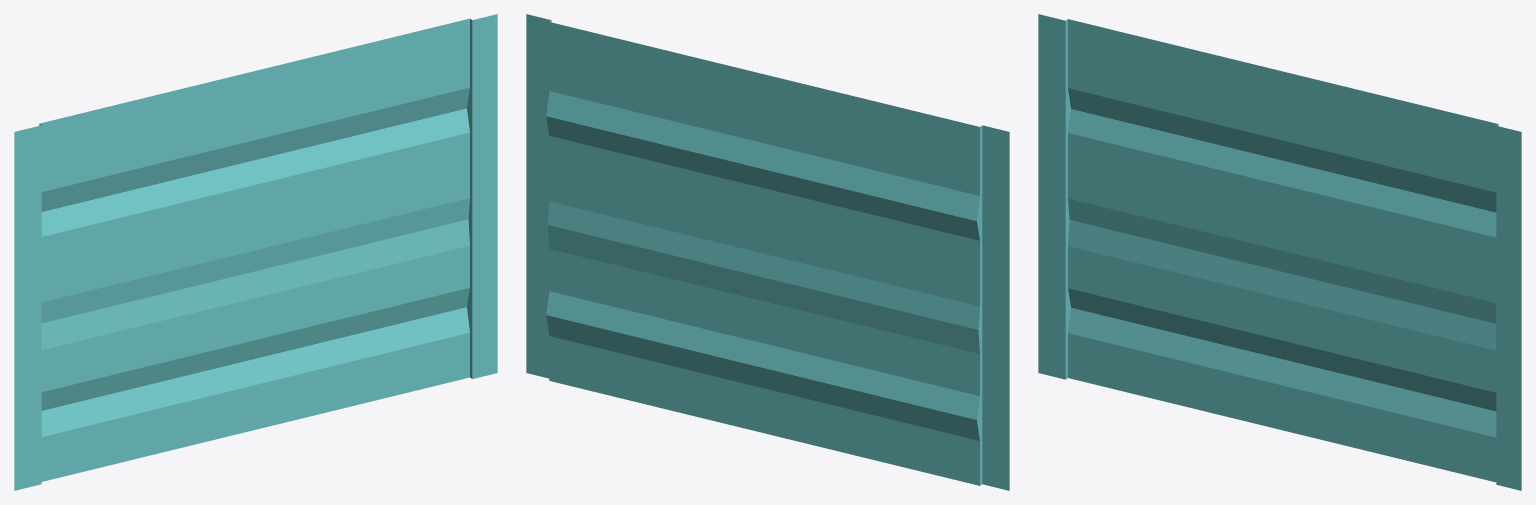
File: muur lang achterkant.fbx
3 views of the same model, side by side, from view 1: azimuth 30°, elevation 25°; view 2: azimuth 150°, elevation 25°; view 3: azimuth 330°, elevation 25° (orthographic).
Visible parts, largest first — view 1: lange muur.004; view 2: lange muur.004; view 3: lange muur.004.
Boxes of the visible parts, bbox=[...] form: lange muur.004: bbox=[14, 14, 497, 490]; lange muur.004: bbox=[526, 14, 1009, 490]; lange muur.004: bbox=[1038, 14, 1521, 490].
Bounding box in the file's own units: 3.95 × 2.8 × 0.0762.
